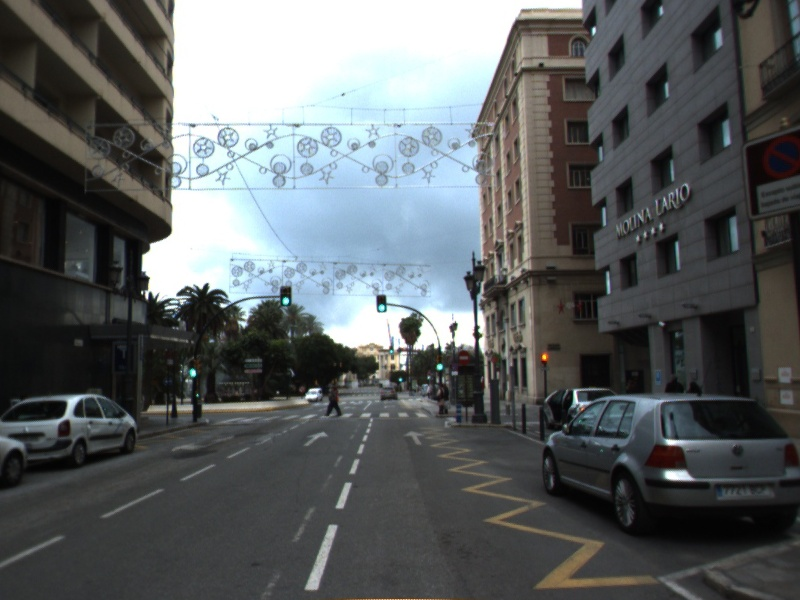STRAIGHT: (301, 429, 331, 448), (401, 428, 428, 447)
STRAIGHT_LEFT: (170, 434, 236, 454)
